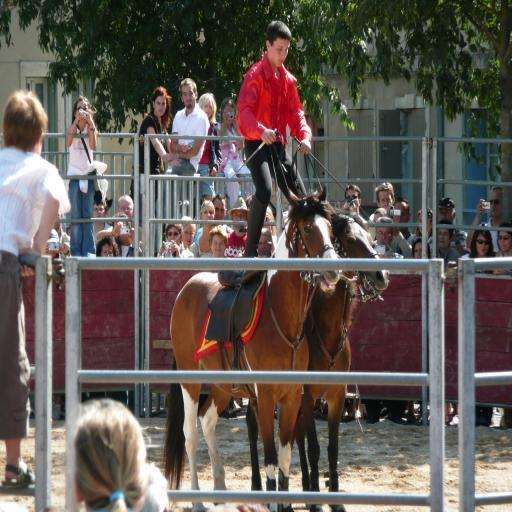horse: (162, 186, 344, 512), (244, 211, 391, 512)
